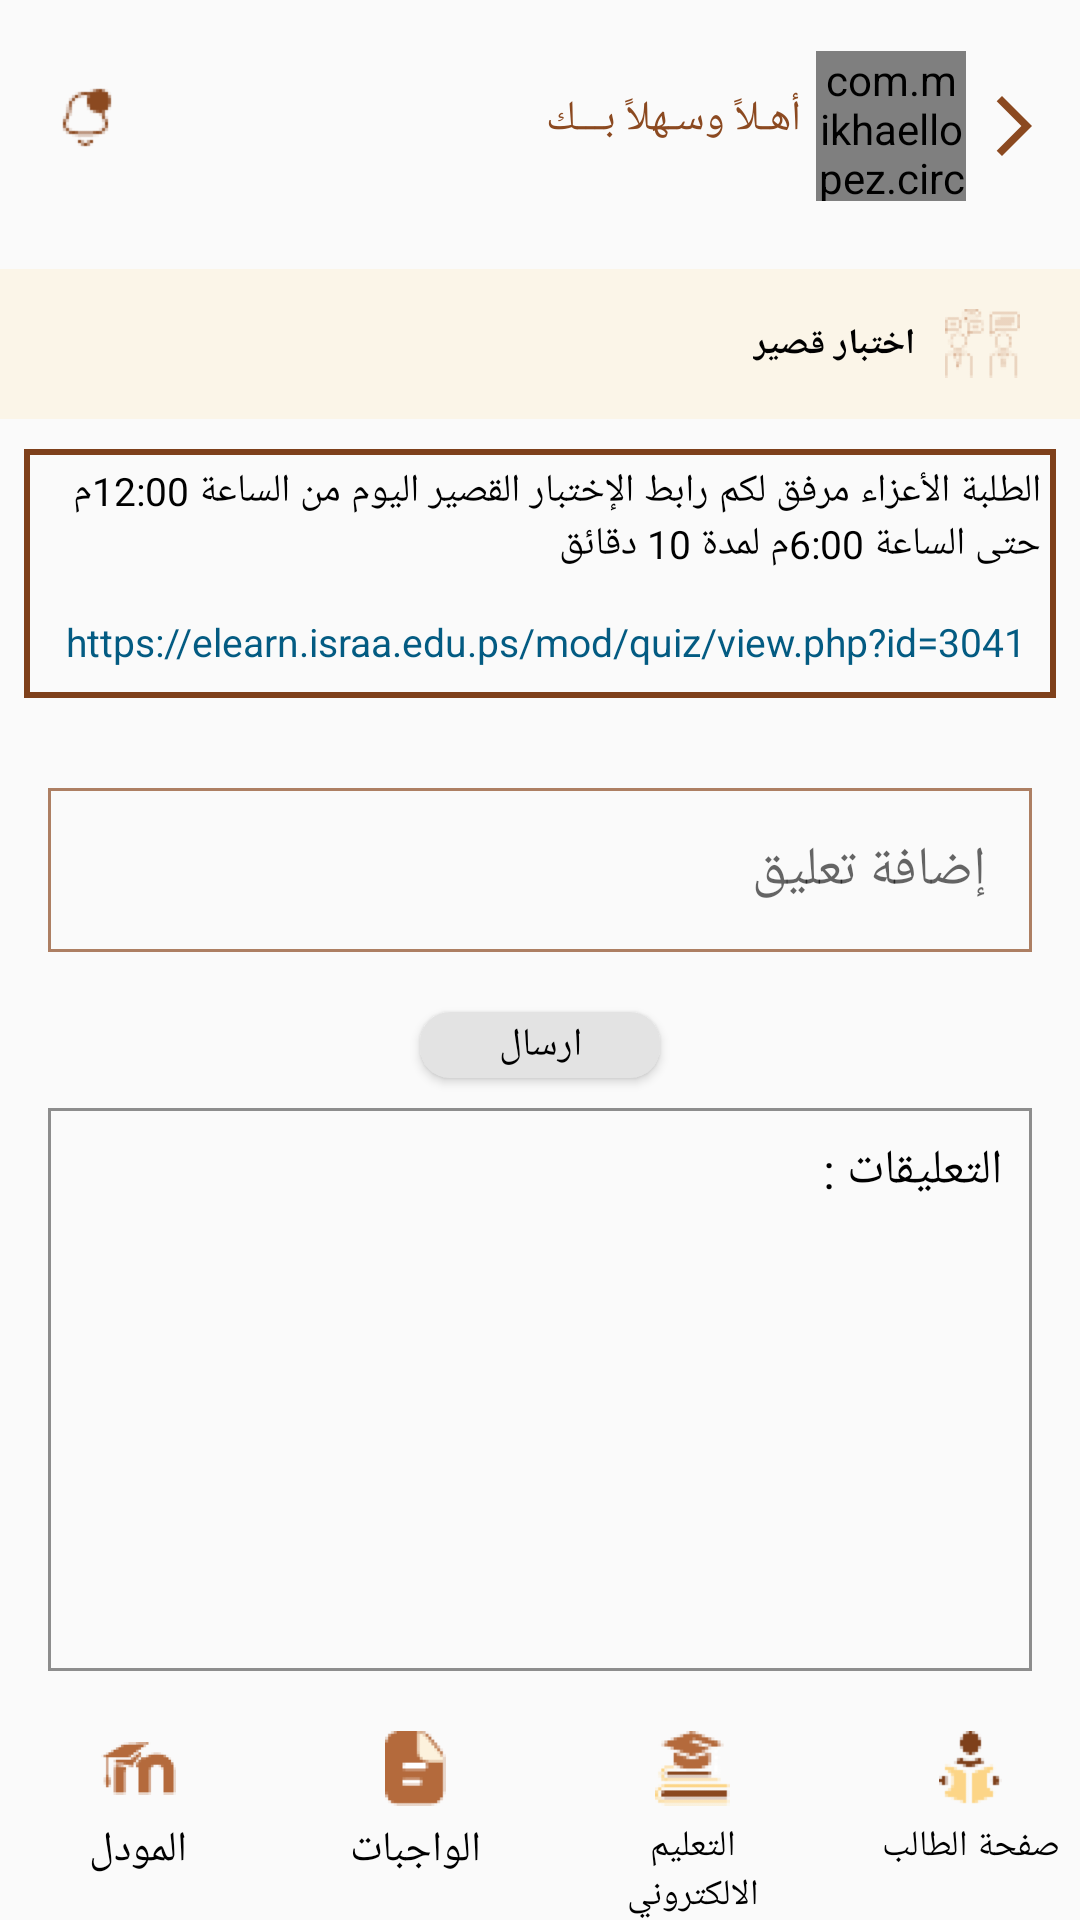

Icon click points for this 1080×1920 phone screenshot, format point (x, y):
arrow forward: point (1014, 126)
